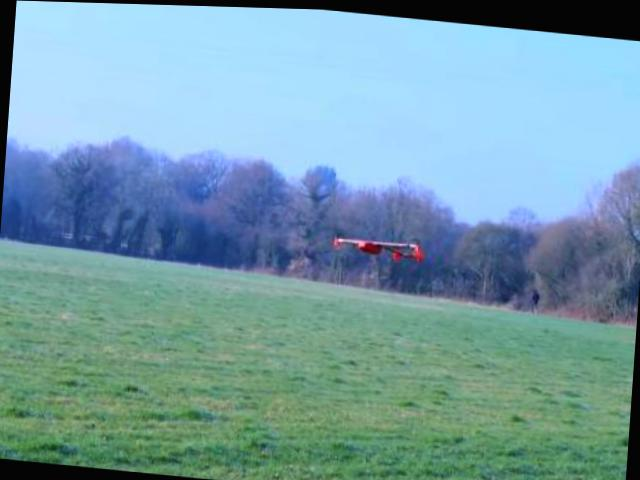uav: (332, 226, 424, 261)
